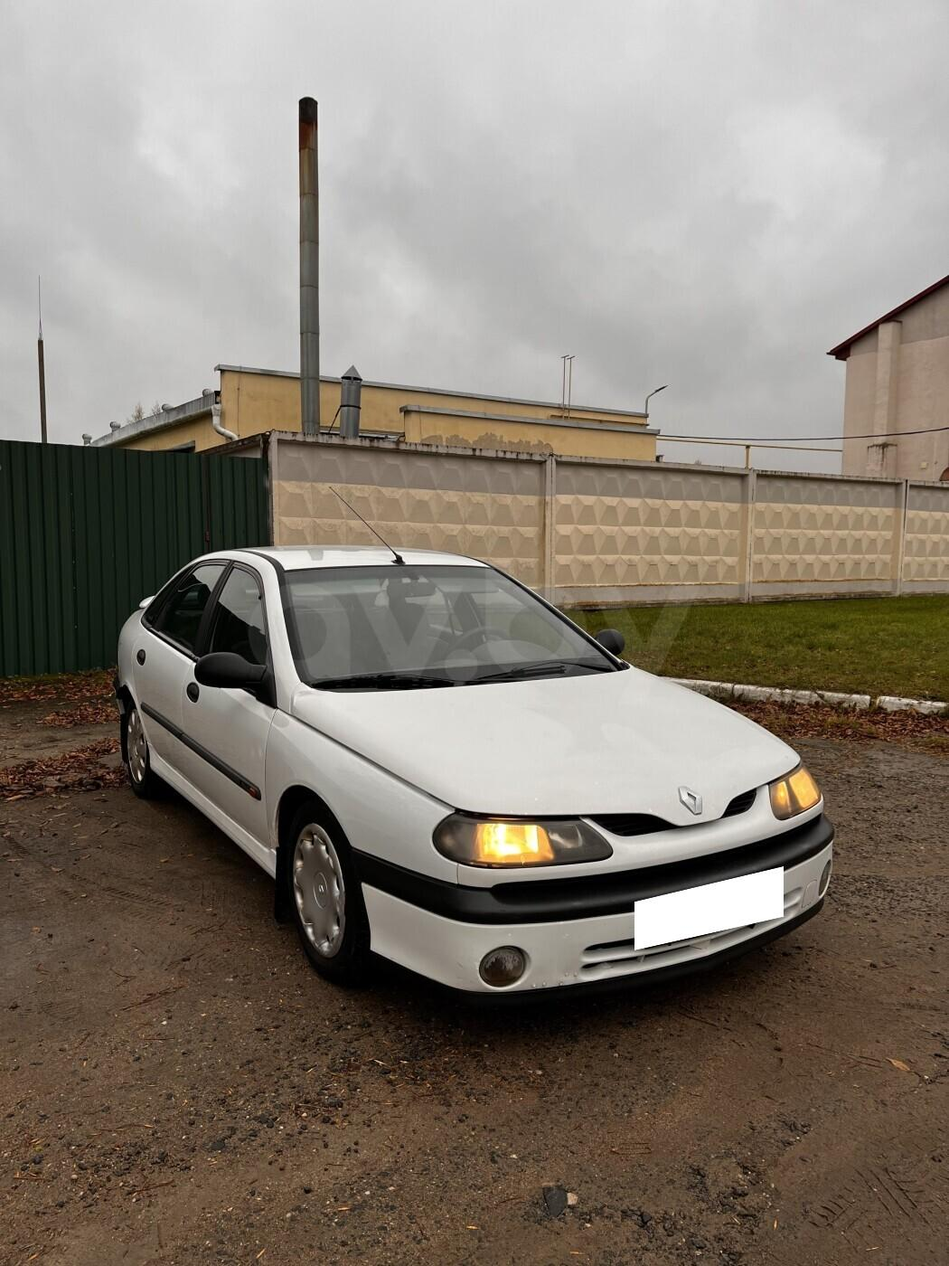Laguna_1998-2001: (101, 539, 853, 1013)
